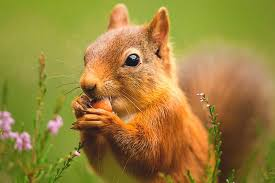Ardilla: (74, 2, 216, 183)
